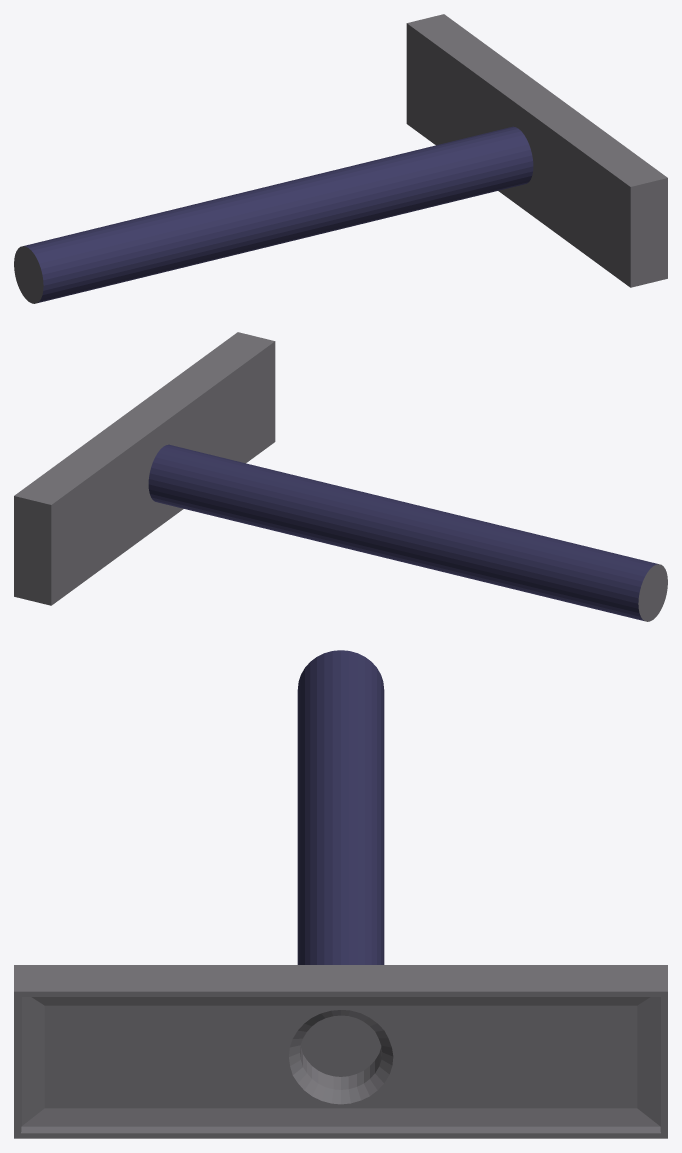
The model's file is Vacuum.fbx.
3 views of the same model, one above another, from view 1: azimuth 30°, elevation 25°; view 2: azimuth 150°, elevation 25°; view 3: azimuth 270°, elevation 25° (orthographic). The views are drawn at different scales.
Visible parts, largest first — view 1: Cylinder; view 2: Cylinder; view 3: Cylinder.
Part boxes in pixels (x1,y1,x2,y2): Cylinder: [14, 14, 667, 303]; Cylinder: [14, 332, 667, 621]; Cylinder: [14, 650, 667, 1138].
Bounding box in the file's own units: 1095 × 200 × 805.
